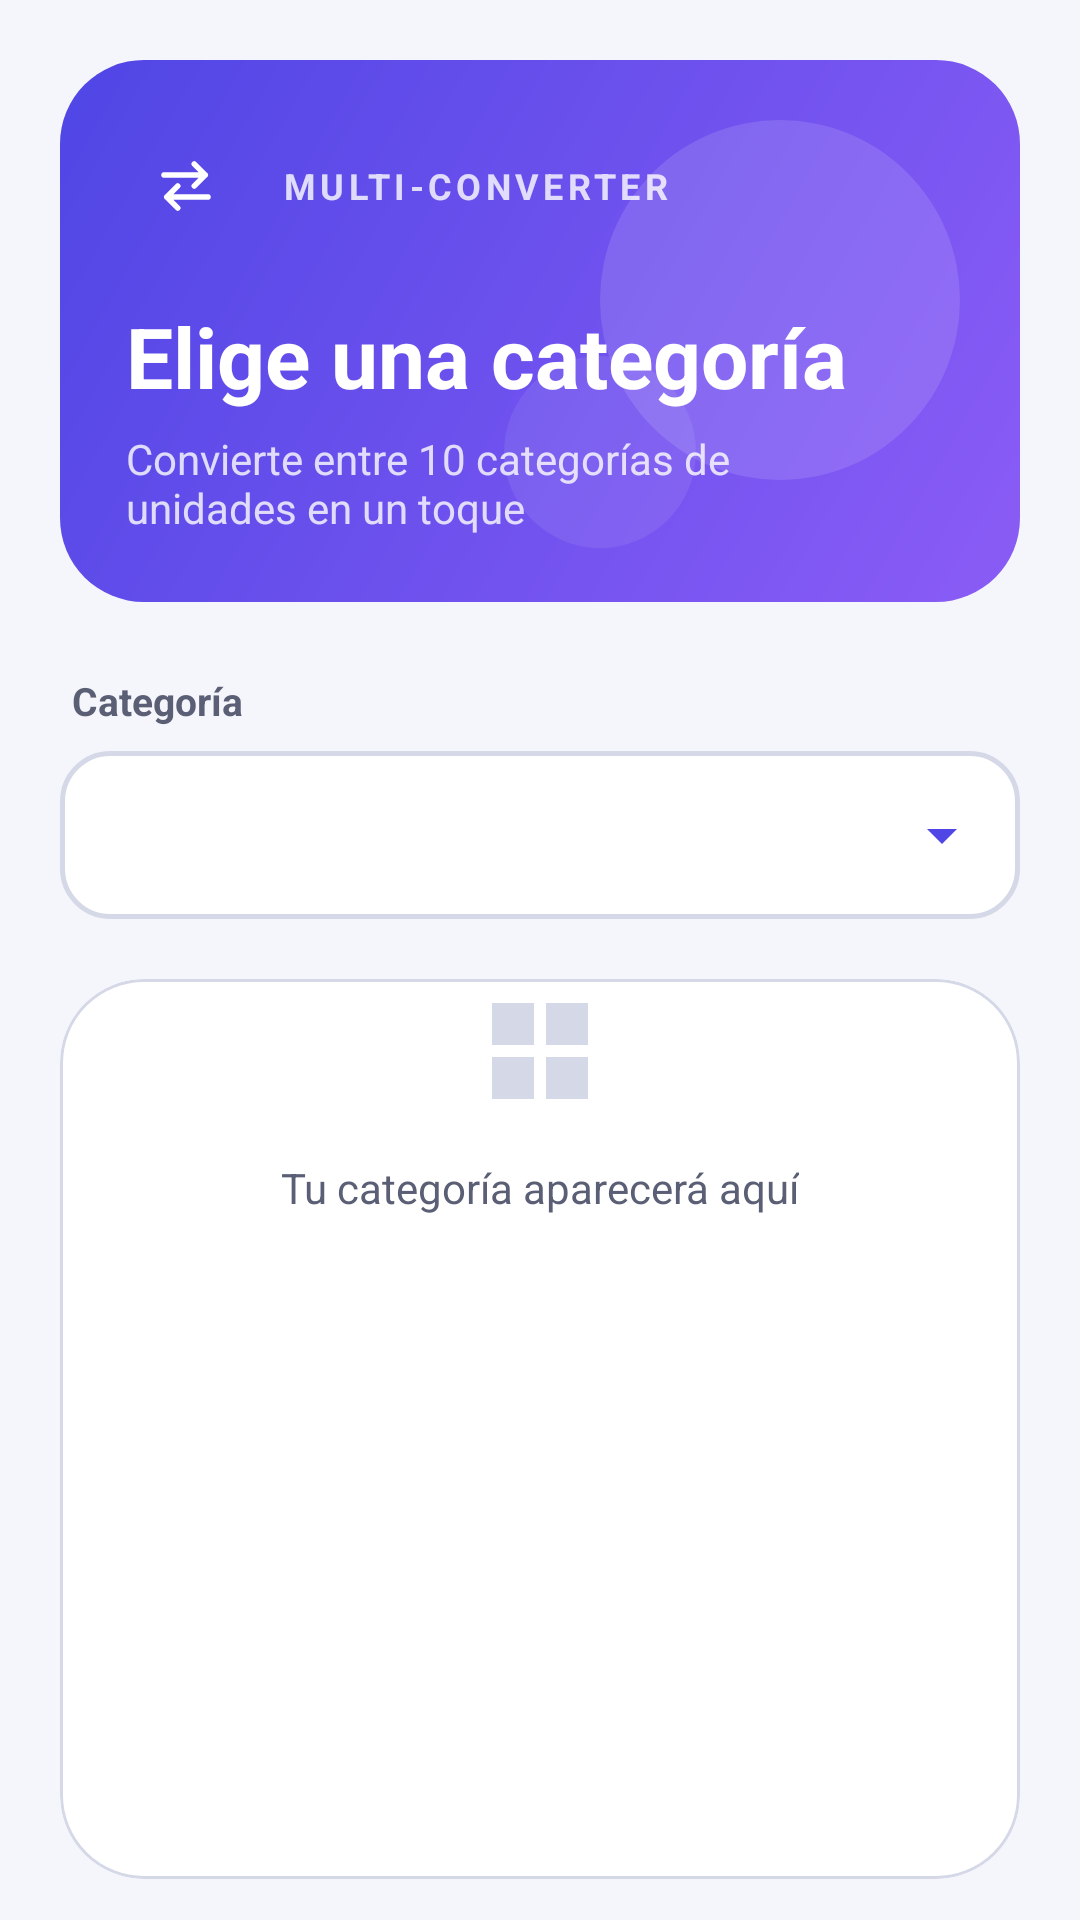

Screen size 1080*1920. Icon name, then its box in pixels as detection(x1, y1, x2, y2):
category: detection(492, 1003, 588, 1099)
swap: detection(161, 161, 211, 211)
